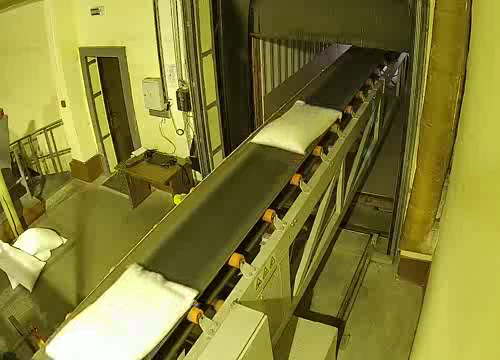bag: (31, 262, 205, 360), (250, 98, 347, 160)
